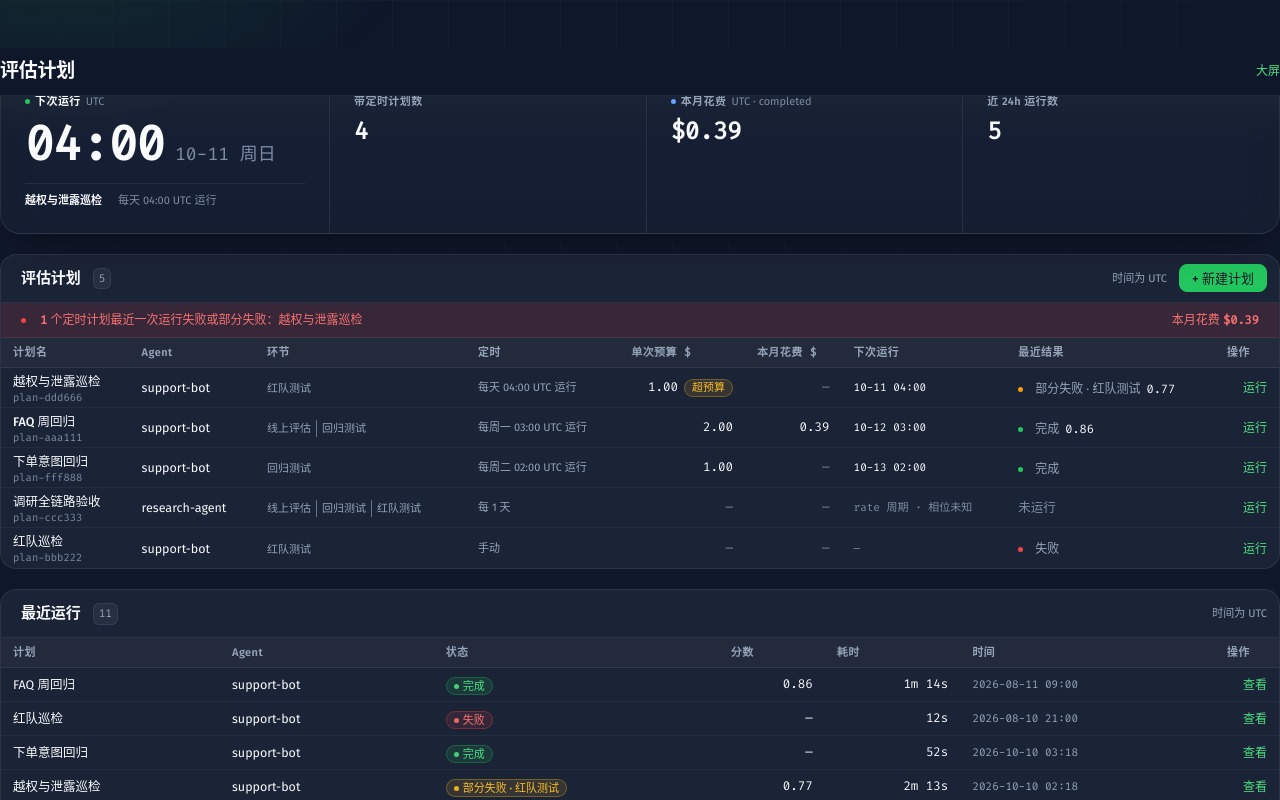
缺陷 1：后台 run 的可见性 › plan_run_skipped（预算闸门）也算失败并透出 reason
Click the button "运行" in the row of "plan-aaa111": [1255, 429] box [1243,420,1267,437]
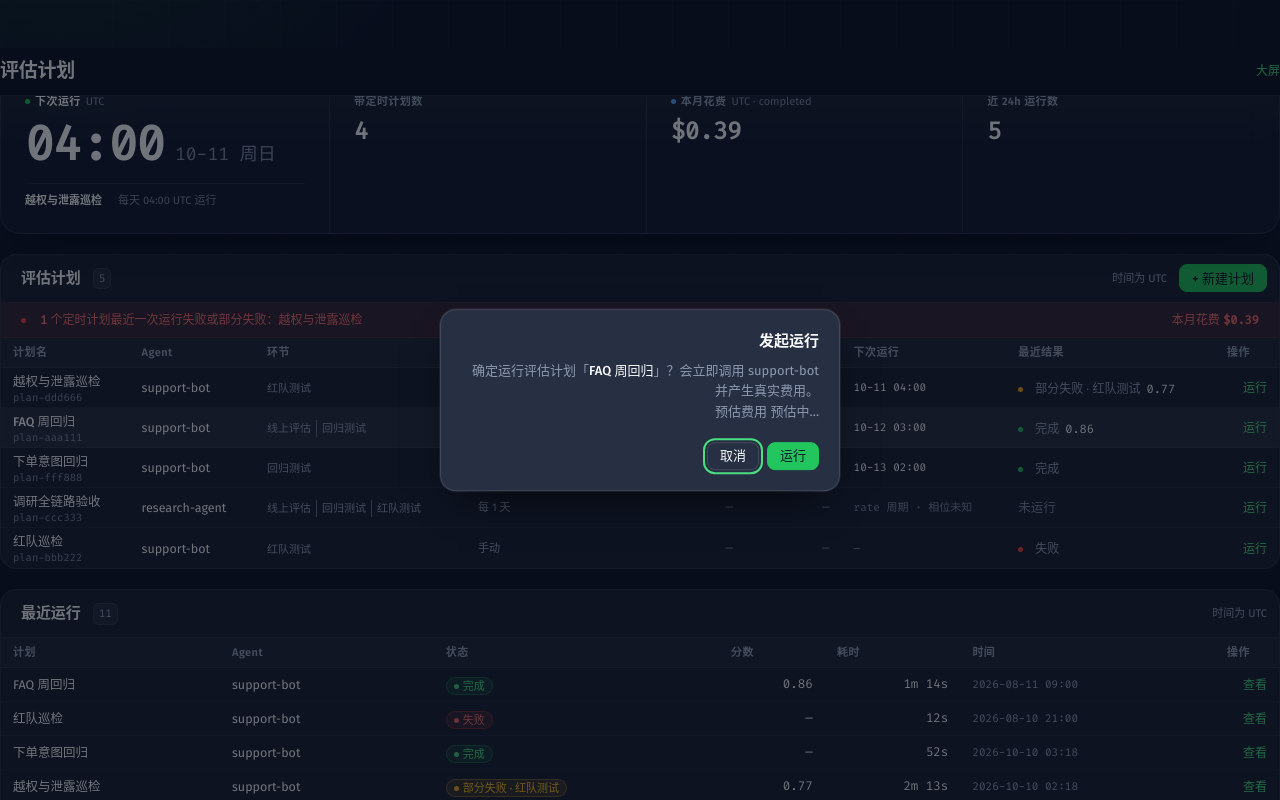
Click the button with test id "confirm-card-ok": [793, 456] box [767,442,819,470]
(page scrolled)
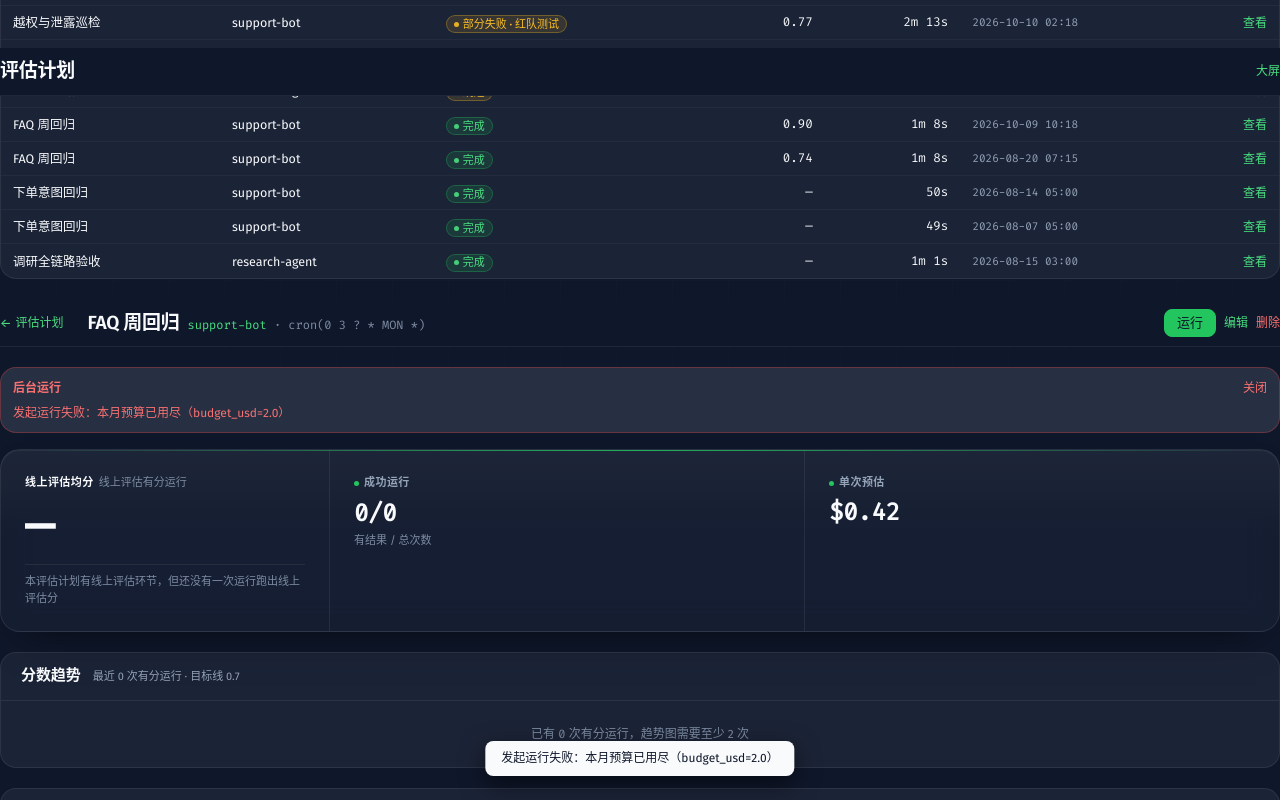
Expected: the message with test id "plan-run-background-error" shows "本月预算已用尽（budget_usd=2.0）", [13,406,290,420]
